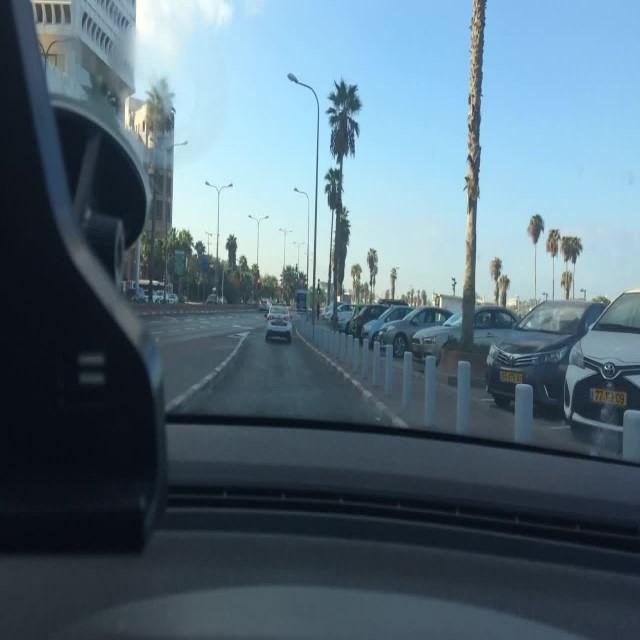normal: (487, 294, 614, 413), (414, 307, 522, 362), (378, 308, 461, 356), (346, 301, 409, 337), (266, 308, 293, 344)
